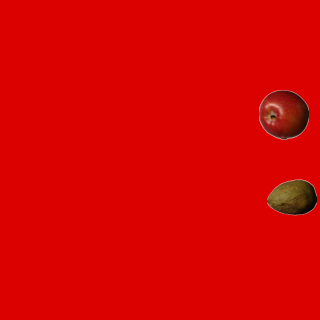Apple Braeburn: (258, 89, 308, 139)
Papaya: (266, 172, 316, 222)
